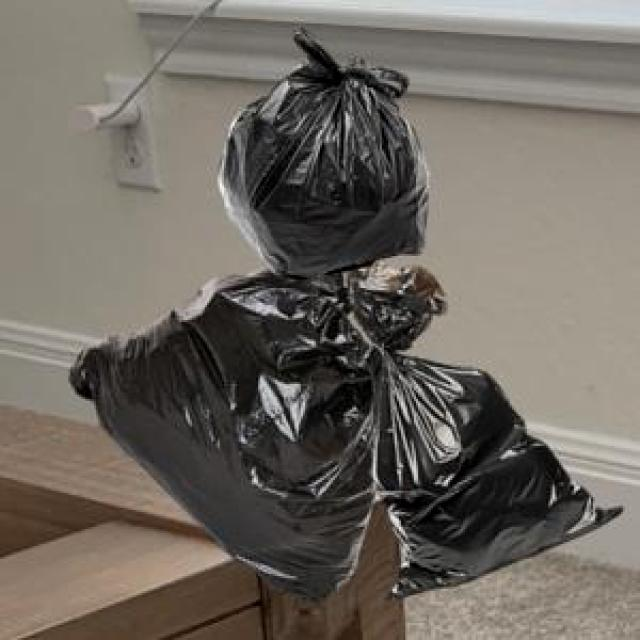Trashbag: (364, 339, 626, 600), (220, 22, 430, 278)
